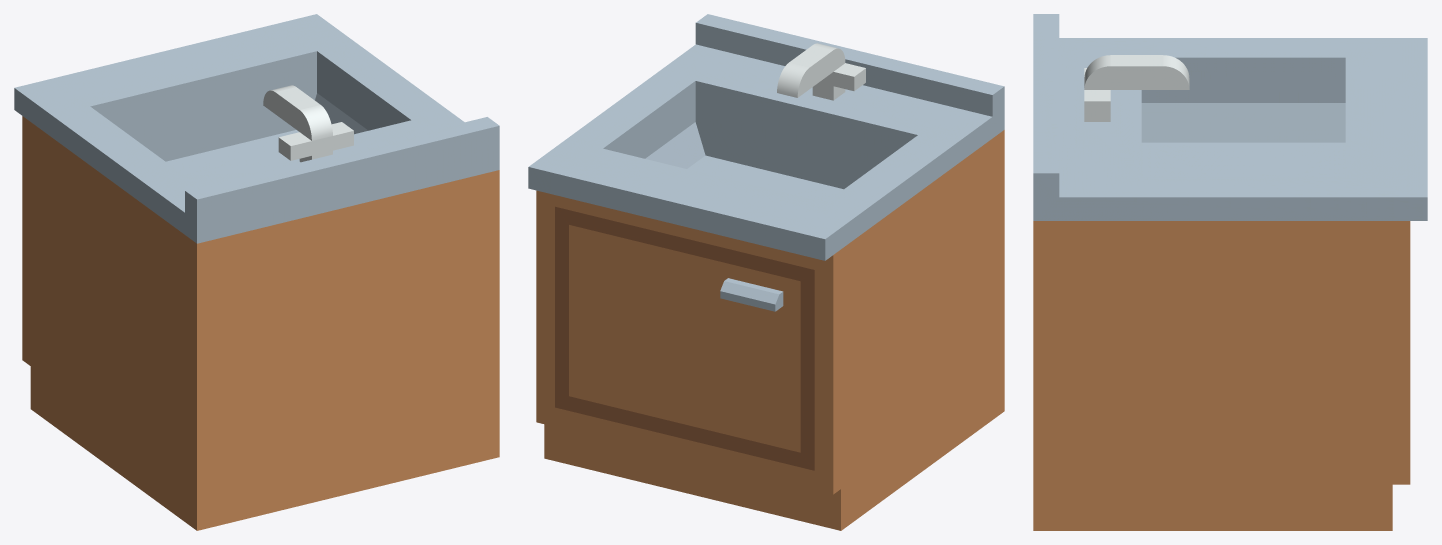
The model's file is Sink-transformed.glb.
3 renders of one model, left to right at view 1: azimuth 30°, elevation 25°; view 2: azimuth 150°, elevation 25°; view 3: azimuth 270°, elevation 25°, orthographic. The views are drawn at different scales.
Visible parts, largest first — view 1: kitchenSink; view 2: kitchenSink; view 3: kitchenSink.
Boxes of the visible parts, x1=… form: kitchenSink: x1=14, y1=14, x2=499, y2=530; kitchenSink: x1=528, y1=14, x2=1004, y2=530; kitchenSink: x1=1033, y1=14, x2=1427, y2=530.
Size of the model in its own units: 0.43 by 0.49 by 0.45.
Materials: 1 (1 with a texture image).
